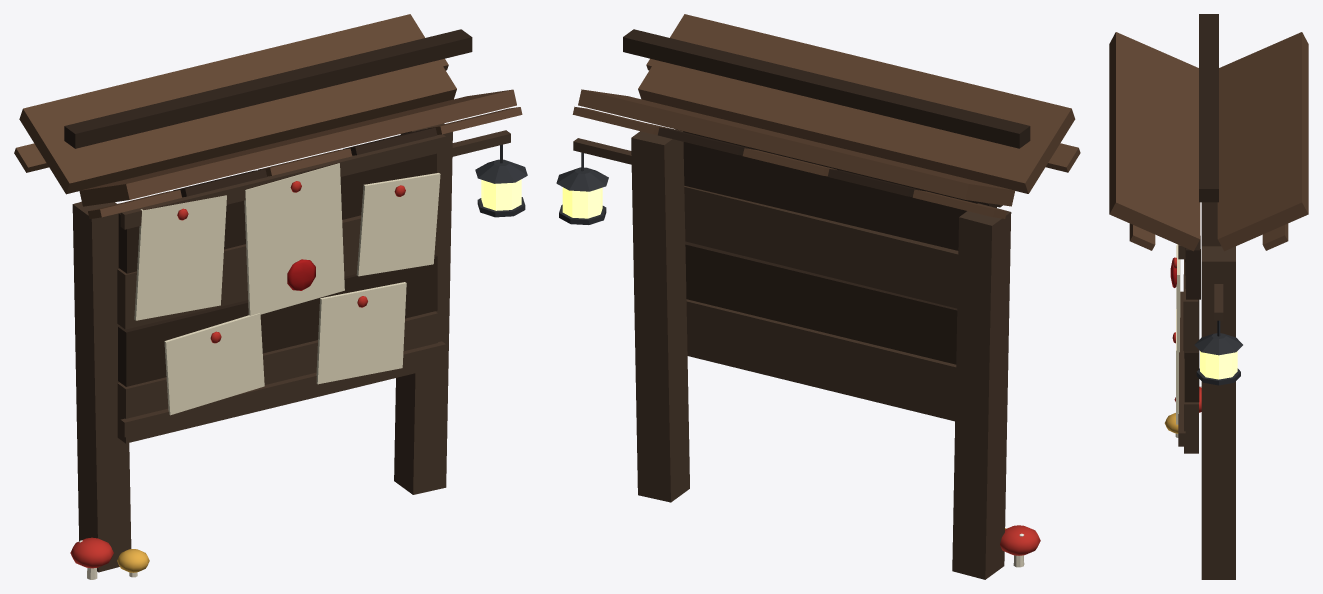
The model's file is Build_Lobby_NoticeBoard.glb.
3 views of the same model, side by side, from view 1: azimuth 30°, elevation 25°; view 2: azimuth 150°, elevation 25°; view 3: azimuth 270°, elevation 25° (orthographic). The views are drawn at different scales.
Parts seen in each view (by area): view 1: Build_Lobby_NoticeBoard; view 2: Build_Lobby_NoticeBoard; view 3: Build_Lobby_NoticeBoard.
Boxes of the visible parts, x1,y1,x2,y2 form: Build_Lobby_NoticeBoard: [14, 14, 527, 579]; Build_Lobby_NoticeBoard: [556, 14, 1080, 579]; Build_Lobby_NoticeBoard: [1109, 14, 1308, 579].
Size of the model in its own units: 10 by 9.01 by 4.04.
